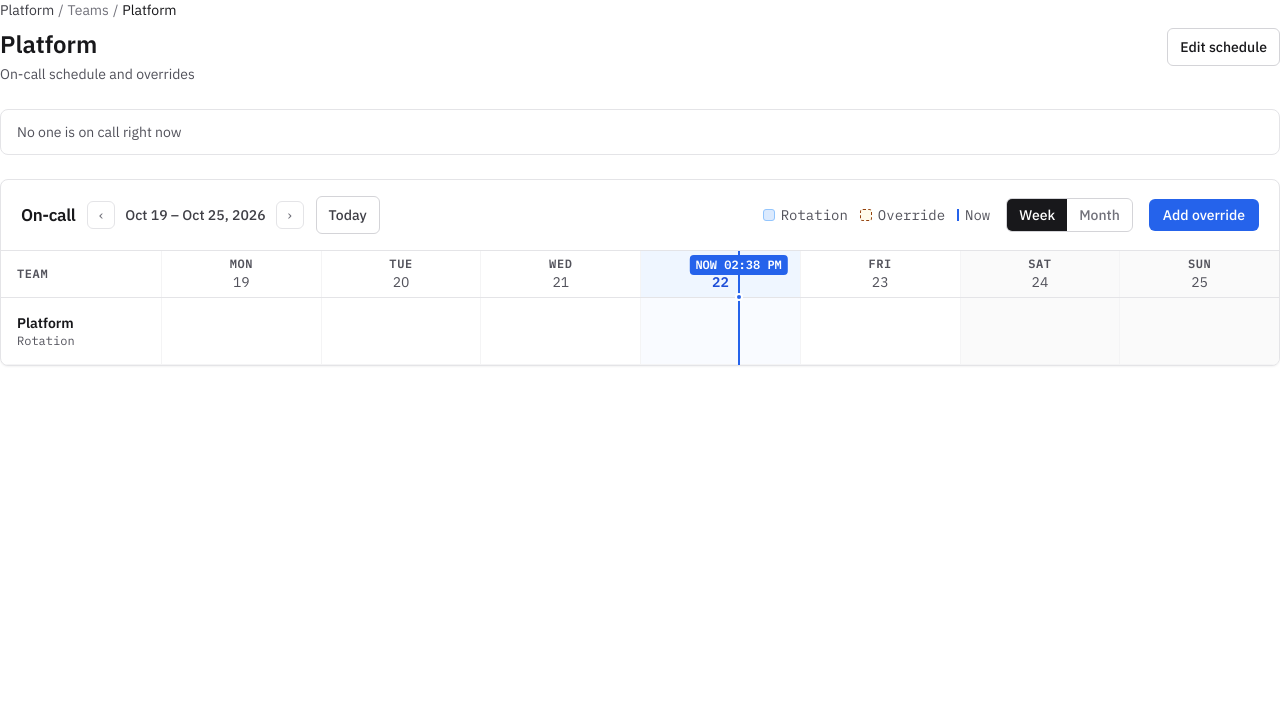
Test: TeamShiftsRoute › deletes override and refreshes calendar as admin
The width and height of the screenshot is (1280, 720).
Click the button "Add override" at (1204, 215), box top-left (1149, 199), bottom-right (1259, 231)
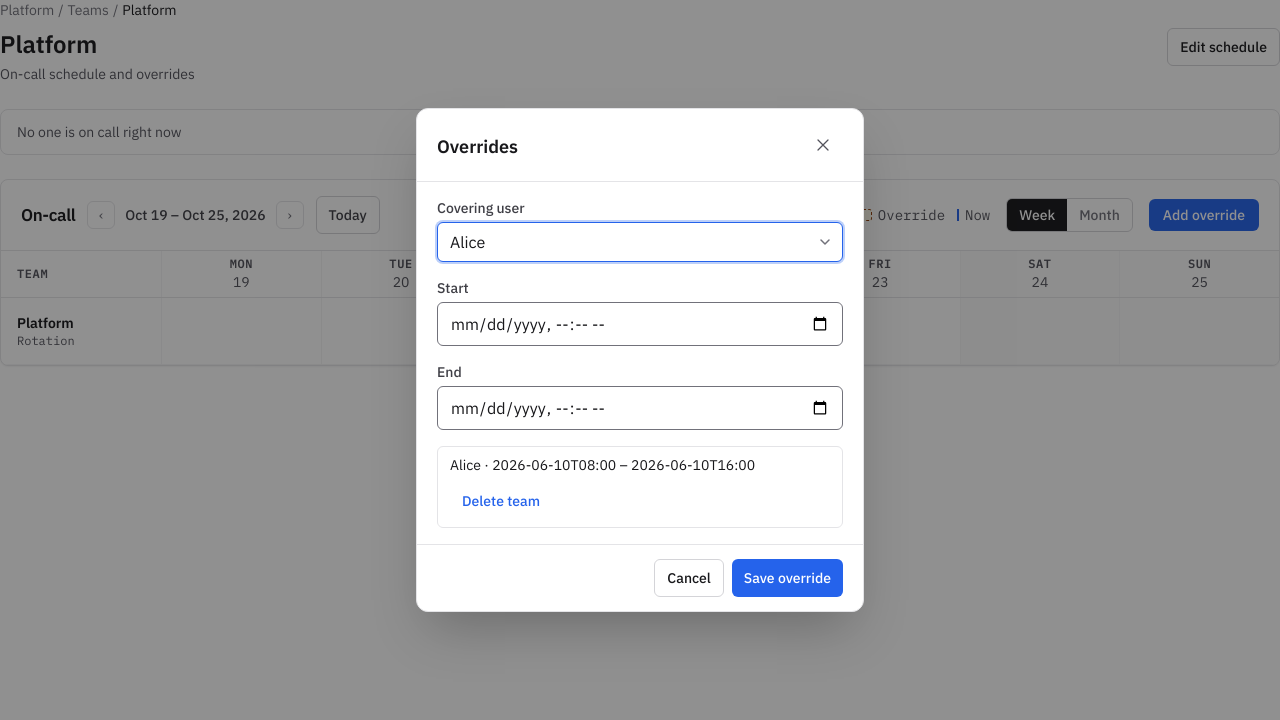
Click the button "Delete team" at (501, 501), box top-left (450, 483), bottom-right (552, 519)
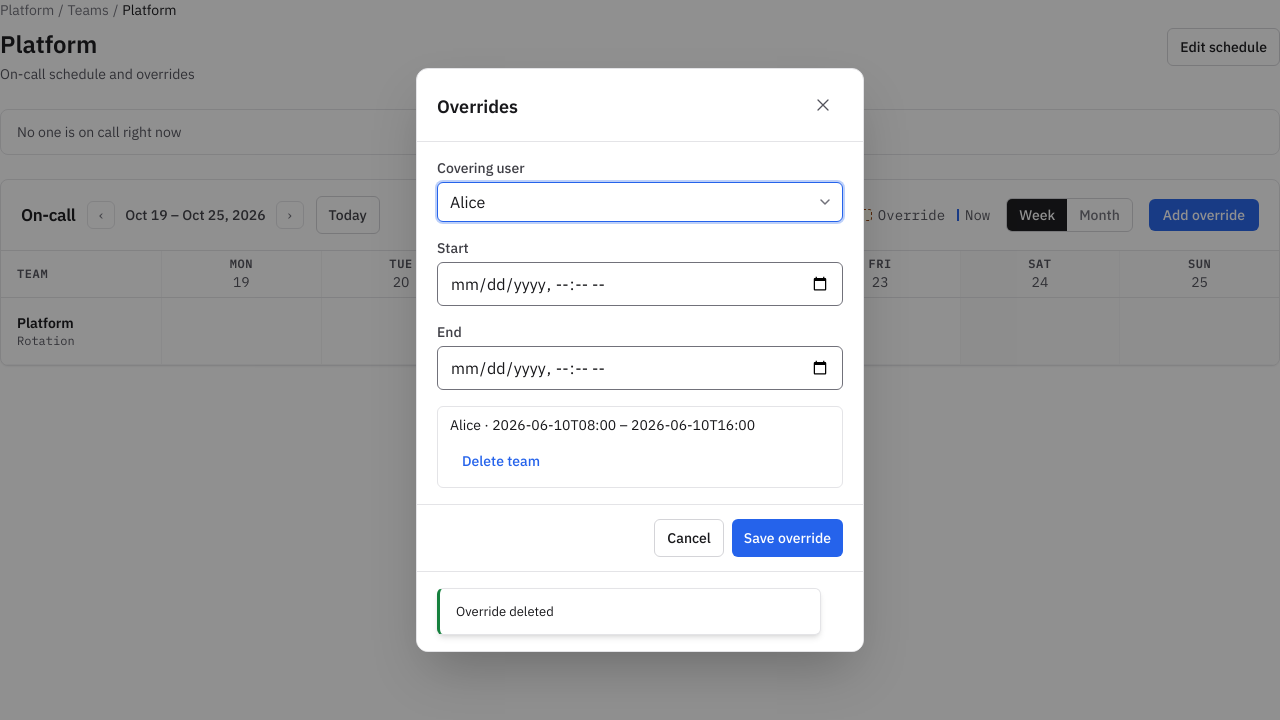
Now the text "Override deleted" is shown, box top-left (437, 588), bottom-right (821, 635)
